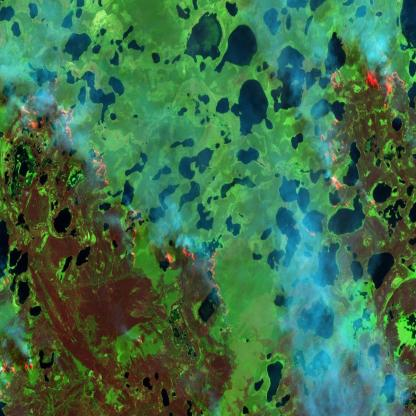fire: (161, 235, 230, 310), (326, 56, 408, 112), (7, 69, 62, 146), (318, 118, 358, 196), (120, 204, 146, 271), (84, 143, 115, 187), (58, 107, 83, 151), (327, 198, 354, 212), (366, 193, 380, 215)
